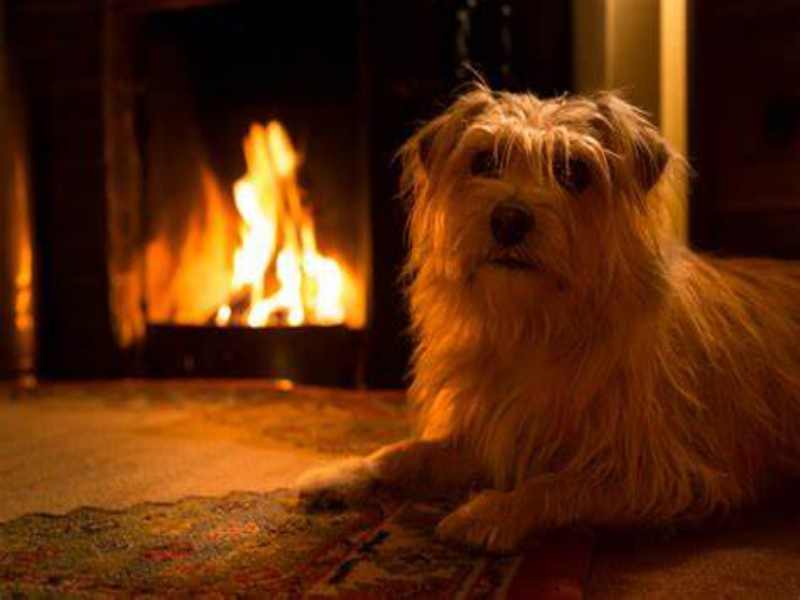fire: (231, 122, 342, 327)
